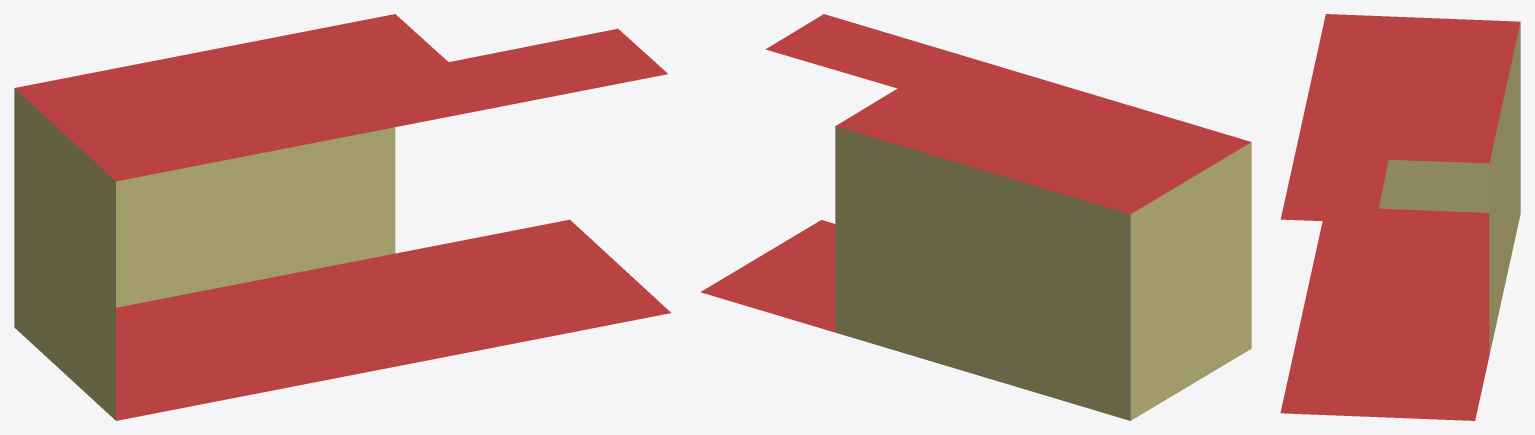
The picture shows the model from 3 angles, left to right: view 1: azimuth 30°, elevation 25°; view 2: azimuth 150°, elevation 25°; view 3: azimuth 270°, elevation 25°; orthographic projection. The views are drawn at different scales.
Bounding box in the file's own units: 17.72 × 8.39 × 7.42.
